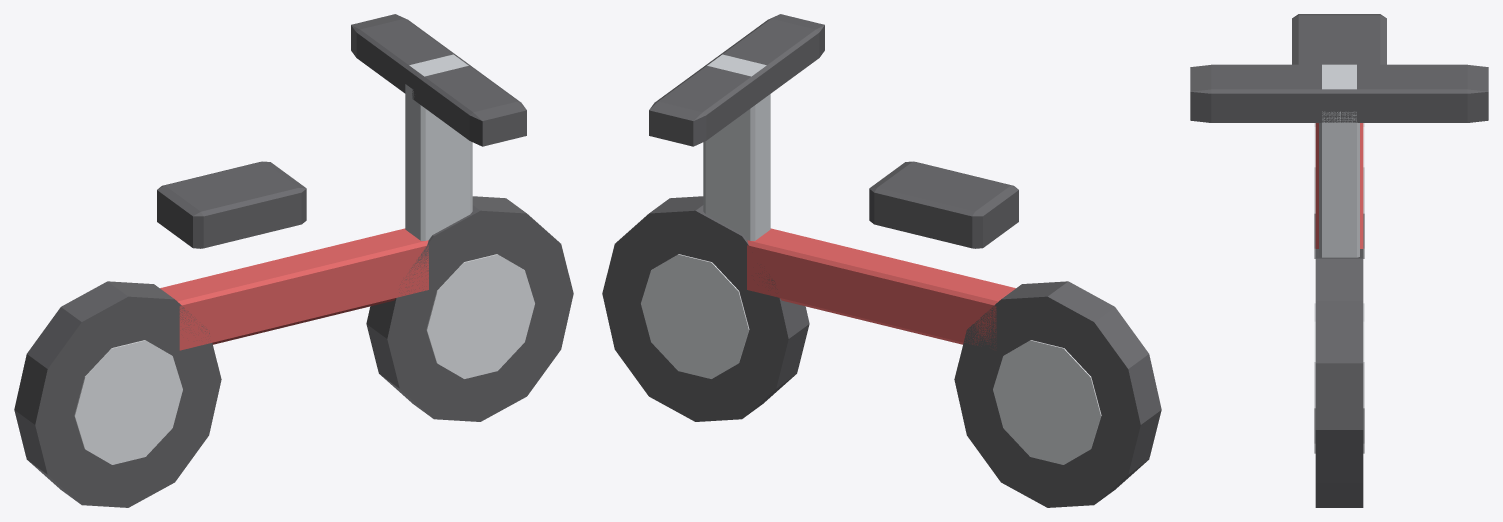
File: b03_faired_sport_motorcycle.glb
3 views of the same model, side by side, from view 1: azimuth 30°, elevation 25°; view 2: azimuth 150°, elevation 25°; view 3: azimuth 270°, elevation 25° (orthographic). The views are drawn at different scales.
Parts seen in each view (by area): view 1: b03_faired_sport_motorcycle; view 2: b03_faired_sport_motorcycle; view 3: b03_faired_sport_motorcycle.
Boxes of the visible parts, x1=… form: b03_faired_sport_motorcycle: x1=14, y1=14, x2=573, y2=507; b03_faired_sport_motorcycle: x1=602, y1=14, x2=1161, y2=507; b03_faired_sport_motorcycle: x1=1190, y1=14, x2=1488, y2=507.
Bounding box in the file's own units: 2.15 × 1.36 × 0.91.
